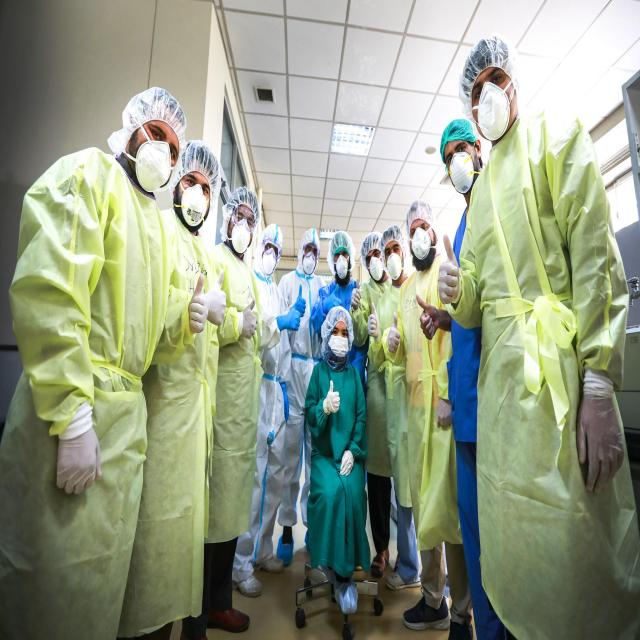Coverall: (458, 35, 640, 634), (8, 82, 183, 640), (441, 123, 513, 640), (146, 142, 220, 640), (215, 180, 260, 635), (405, 194, 452, 626), (279, 225, 323, 565), (378, 225, 409, 593), (253, 201, 283, 576), (356, 231, 383, 579)
Gloves: (578, 369, 630, 495), (55, 428, 103, 498), (437, 234, 461, 307), (187, 271, 211, 338), (204, 265, 229, 327), (277, 282, 307, 331), (188, 271, 207, 338), (276, 302, 300, 336), (366, 298, 383, 345), (242, 295, 259, 341), (323, 377, 341, 420), (292, 280, 307, 321), (388, 309, 401, 353), (339, 448, 354, 482), (325, 283, 342, 312), (351, 289, 361, 308)
Mask: (477, 79, 510, 142), (136, 140, 169, 187), (183, 185, 208, 229), (450, 151, 475, 195), (411, 225, 432, 262), (230, 219, 252, 254), (325, 332, 351, 357), (334, 257, 352, 281), (367, 257, 383, 281), (263, 249, 276, 275), (387, 255, 401, 279), (301, 254, 316, 275)
